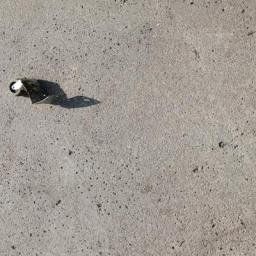FOD: (8, 72, 88, 116)
